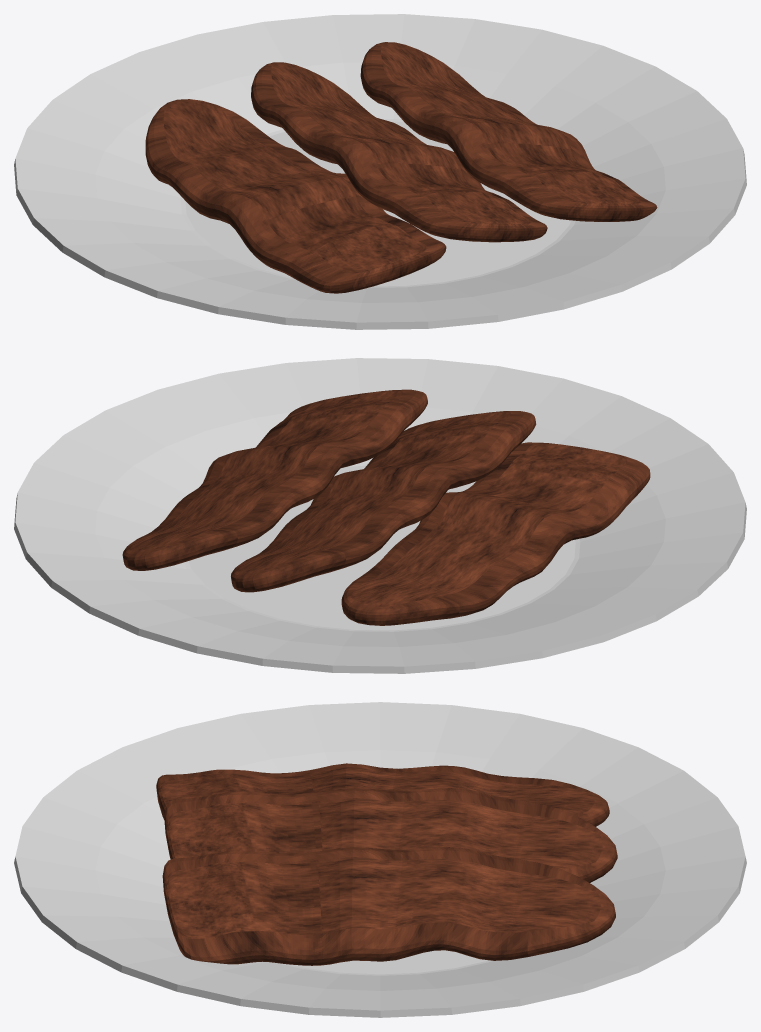
Rendered from grilled_pieced_beef.fbx.
3 views of the same model, one above another, from view 1: azimuth 30°, elevation 25°; view 2: azimuth 150°, elevation 25°; view 3: azimuth 270°, elevation 25° (orthographic).
Visible parts, largest first — view 1: 원형.031, 소고기(초밥); view 2: 원형.031, 소고기(초밥); view 3: 원형.031, 소고기(초밥).
Part boxes in pixels (x1,y1,x2,y2): 원형.031: [14, 14, 746, 329]; 소고기(초밥): [145, 42, 657, 293]; 원형.031: [14, 358, 746, 673]; 소고기(초밥): [122, 389, 650, 625]; 원형.031: [14, 702, 746, 1017]; 소고기(초밥): [156, 763, 617, 965].
Bounding box in the file's own units: 293 × 43.24 × 293.
